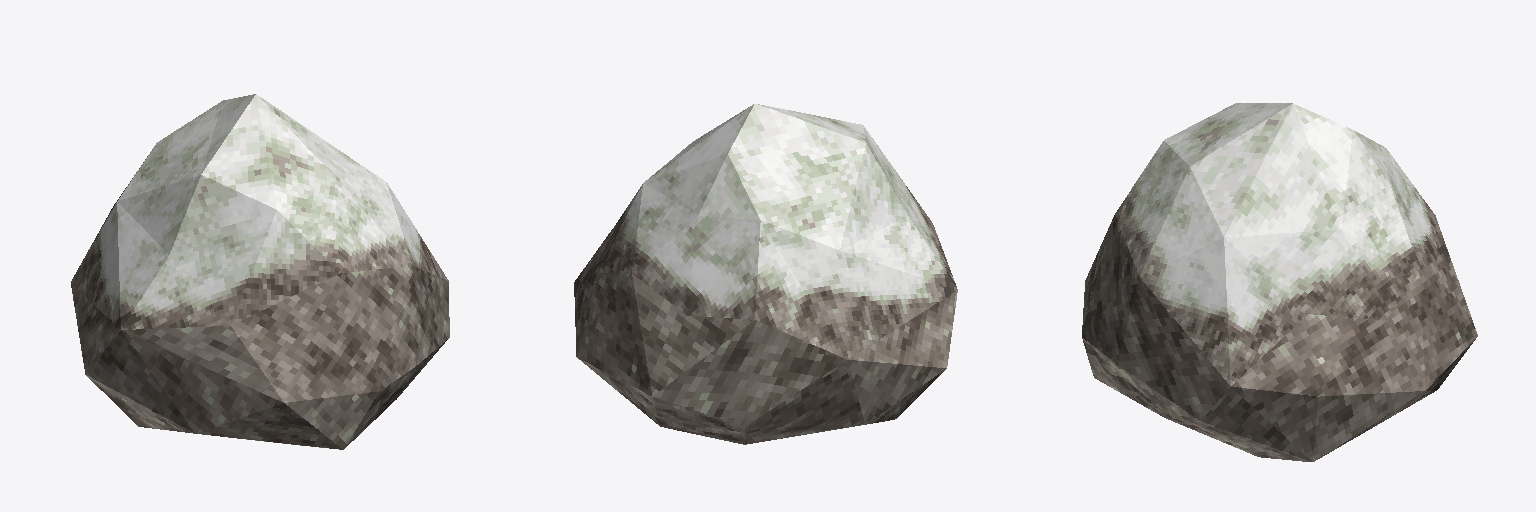
The picture shows the model from 3 angles: view 1: azimuth 30°, elevation 25°; view 2: azimuth 150°, elevation 25°; view 3: azimuth 270°, elevation 25°; orthographic projection.
Visible parts, largest first — view 1: lbouldersno_0; view 2: lbouldersno_0; view 3: lbouldersno_0.
Part boxes in pixels (bbox=[...]): lbouldersno_0: bbox=[71, 94, 449, 449]; lbouldersno_0: bbox=[574, 104, 957, 444]; lbouldersno_0: bbox=[1082, 103, 1477, 461].
Size of the model in its own units: 2.39 by 2.03 by 2.35.
1 materials, 1 textured.